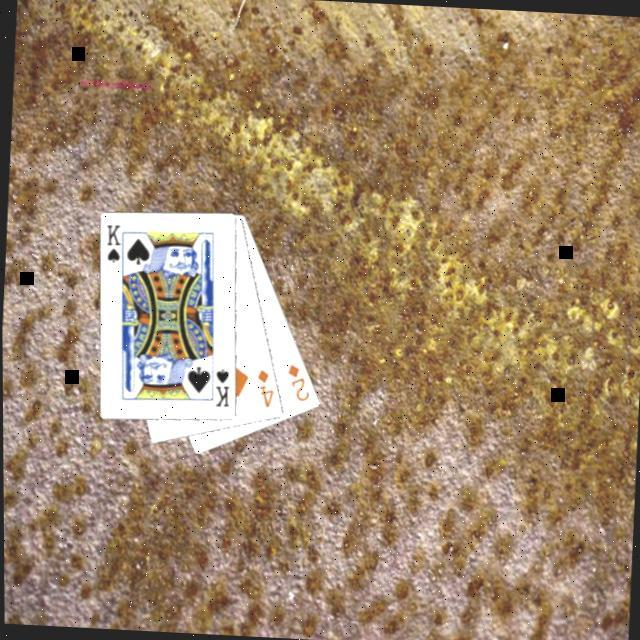2D: (282, 362, 314, 406)
4D: (254, 366, 279, 412)
KS: (102, 223, 128, 270), (213, 366, 235, 412)
